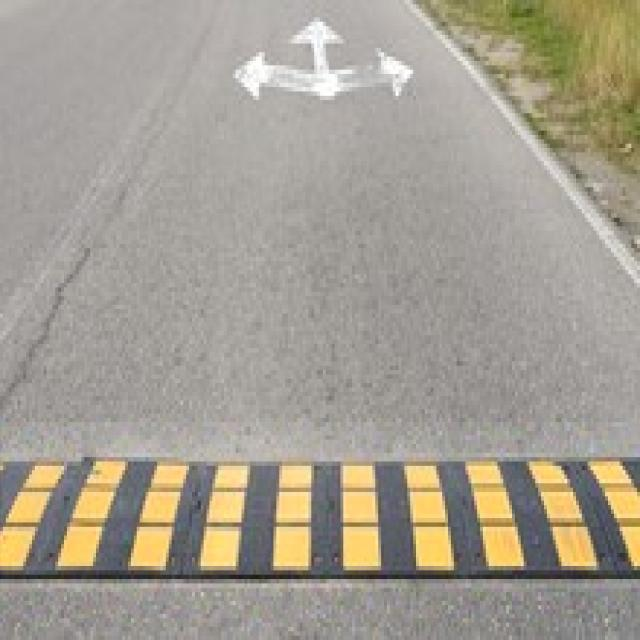speed-bump: (1, 422, 640, 589)
